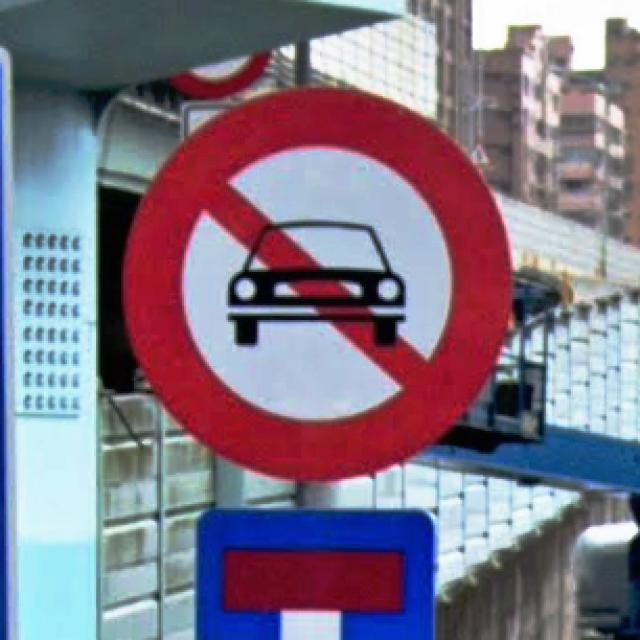nocar: (121, 86, 515, 485)
